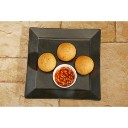bonda: (75, 55, 95, 75), (37, 51, 56, 71), (57, 41, 76, 59)
